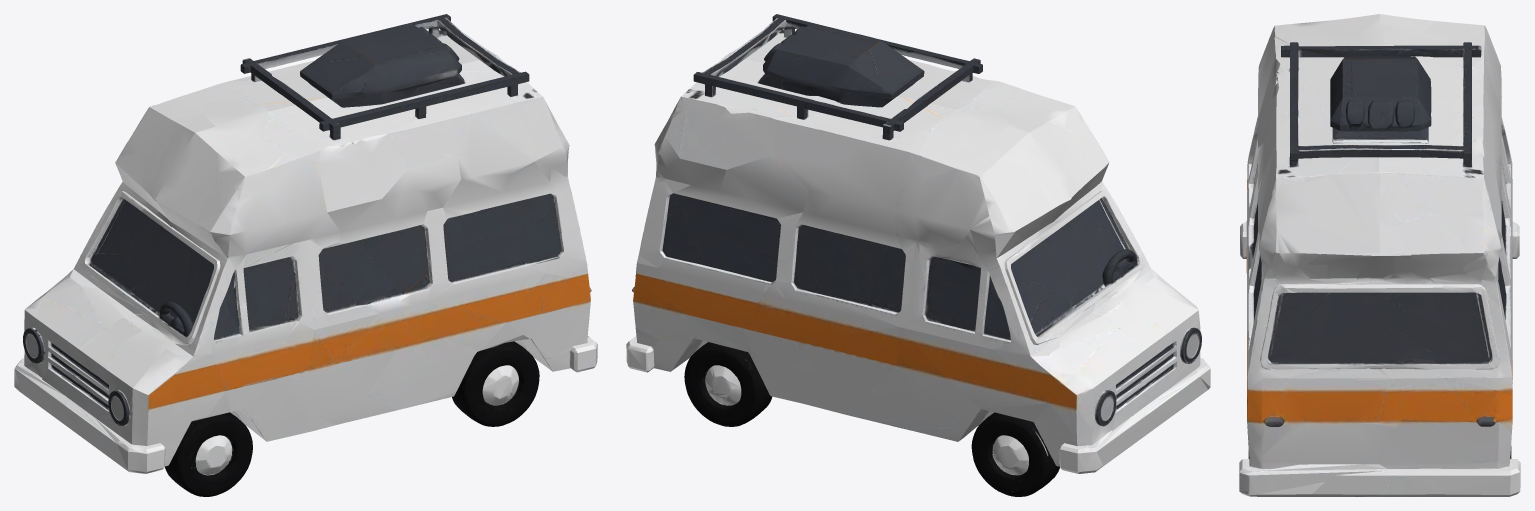
The model's file is toy-van.glb.
3 views of the same model, side by side, from view 1: azimuth 30°, elevation 25°; view 2: azimuth 150°, elevation 25°; view 3: azimuth 270°, elevation 25° (orthographic). The views are drawn at different scales.
Visible parts, largest first — view 1: Mesh_0; view 2: Mesh_0; view 3: Mesh_0.
Boxes of the visible parts, x1,y1,x2,y2 form: Mesh_0: (14,14,597,496); Mesh_0: (626,14,1210,496); Mesh_0: (1239,14,1520,496).
Bounding box in the file's own units: 1.9 × 1.36 × 0.8973.
Materials: 1 (1 with a texture image).
